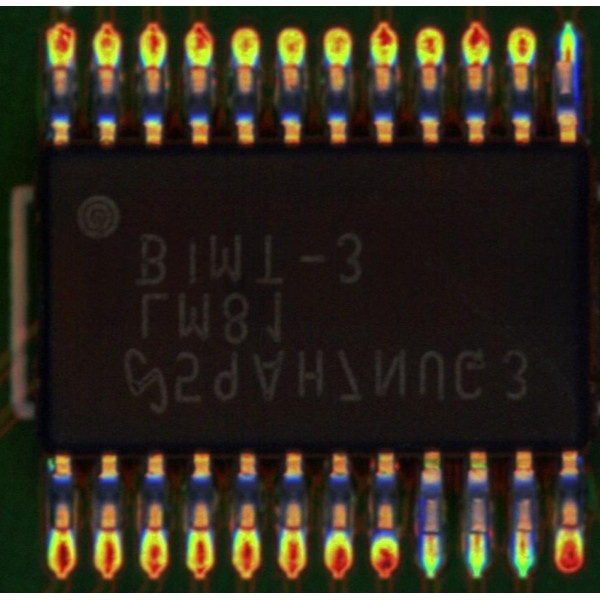Bad_podu: (518, 520, 531, 555), (425, 522, 439, 549), (473, 522, 485, 551), (562, 46, 574, 74), (563, 516, 578, 538)
